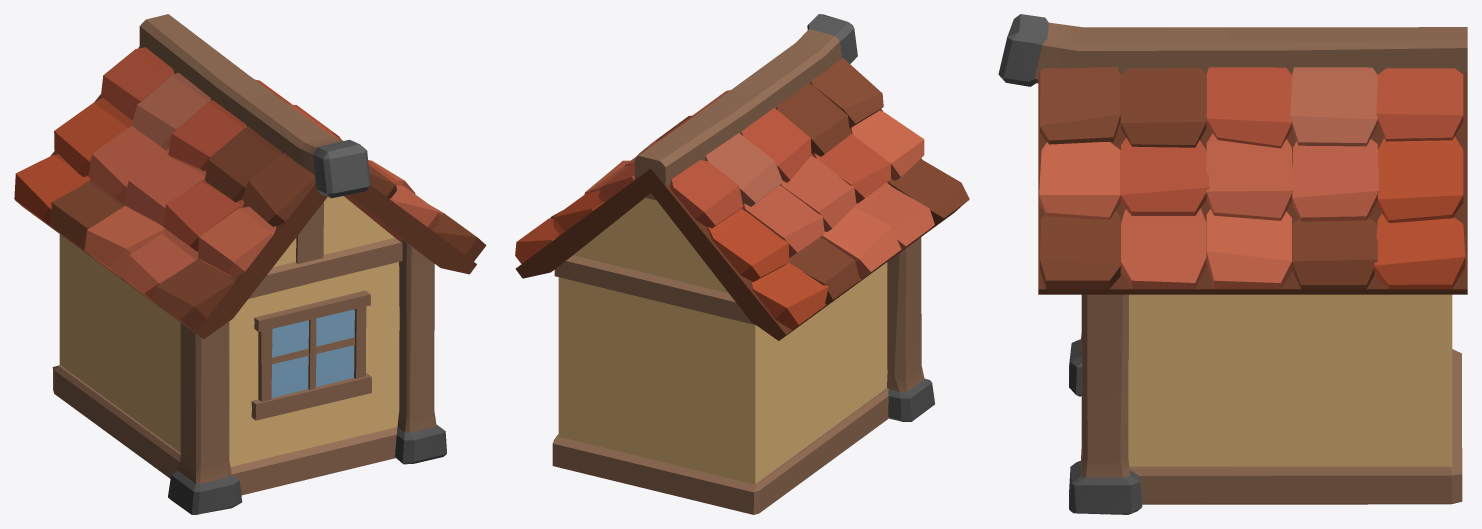
Rendered from House_1Floor_Side_K.fbx.
3 views of the same model, side by side, from view 1: azimuth 30°, elevation 25°; view 2: azimuth 150°, elevation 25°; view 3: azimuth 270°, elevation 25° (orthographic). The views are drawn at different scales.
Visible parts, largest first — view 1: House_1Floor_Side_K; view 2: House_1Floor_Side_K; view 3: House_1Floor_Side_K.
Part boxes in pixels (left/top/right/bottom): House_1Floor_Side_K: left=14, top=14, right=486, bottom=514; House_1Floor_Side_K: left=515, top=14, right=969, bottom=514; House_1Floor_Side_K: left=998, top=14, right=1467, bottom=514.
Bounding box in the file's own units: 259 × 288 × 290.
